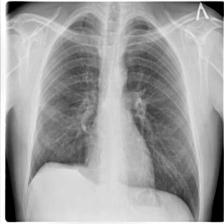tuberculosis: (24, 10, 204, 221)
